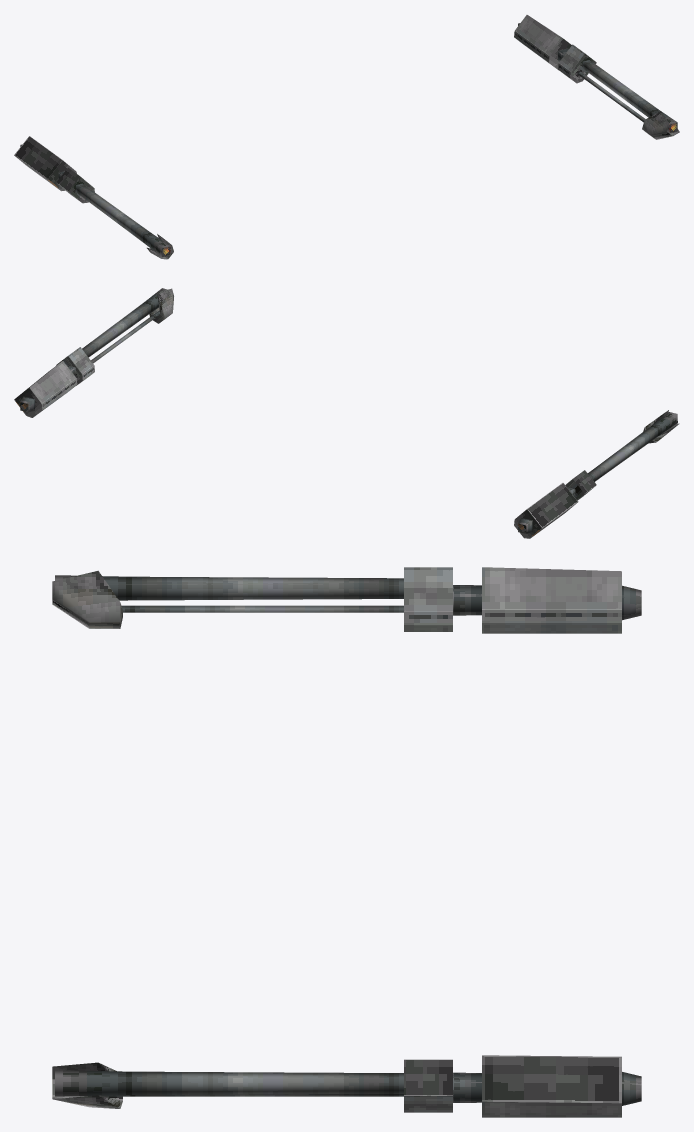
Rendered from hutt_fighter_medium_weapon2_s06_l2.fbx.
The picture shows the model from 3 angles, top to bottom: view 1: azimuth 30°, elevation 25°; view 2: azimuth 150°, elevation 25°; view 3: azimuth 270°, elevation 25°; orthographic projection. The views are drawn at different scales.
Parts seen in each view (by area): view 1: mesh_node; view 2: mesh_node; view 3: mesh_node.
Part boxes in pixels (<box>): mesh_node: <box>14,15,679,259</box>; mesh_node: <box>14,288,679,538</box>; mesh_node: <box>52,567,641,1117</box>.
Bounding box in the file's own units: 13.42 × 0.7528 × 6.45.
